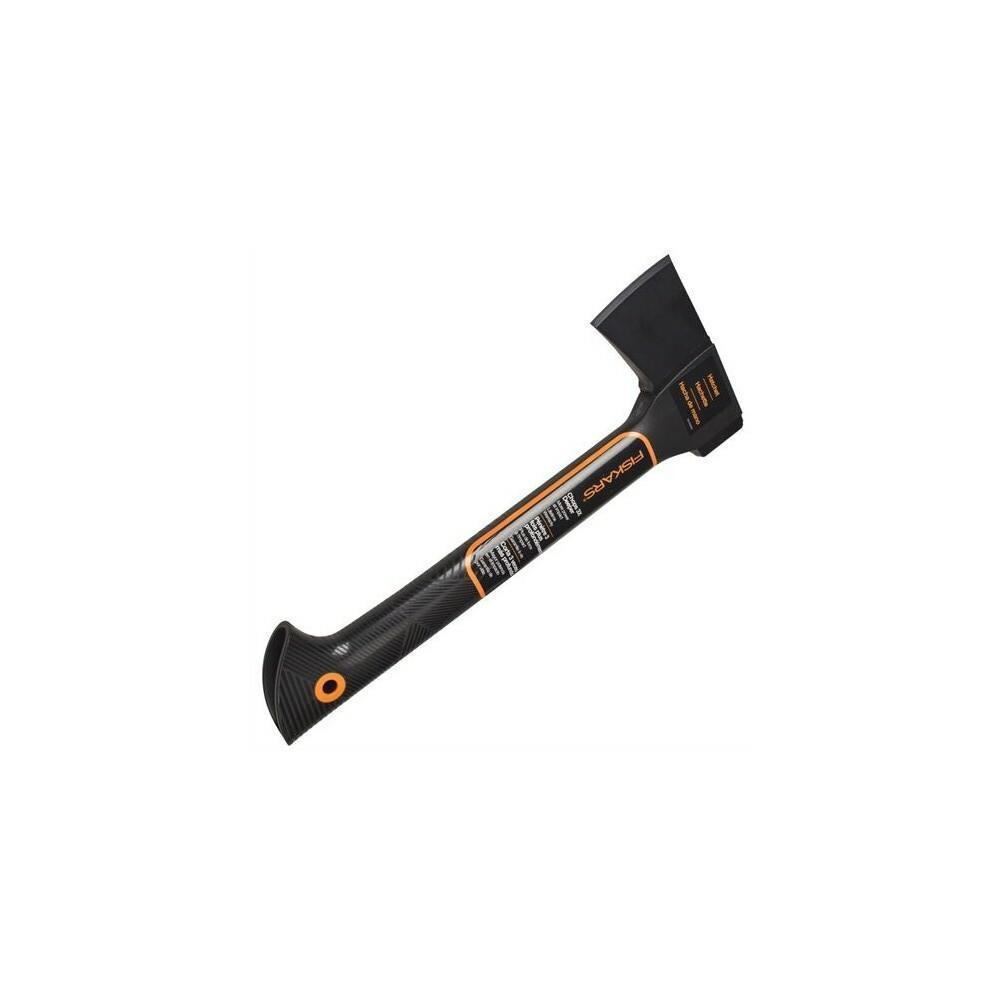machado: (262, 257, 742, 744)
